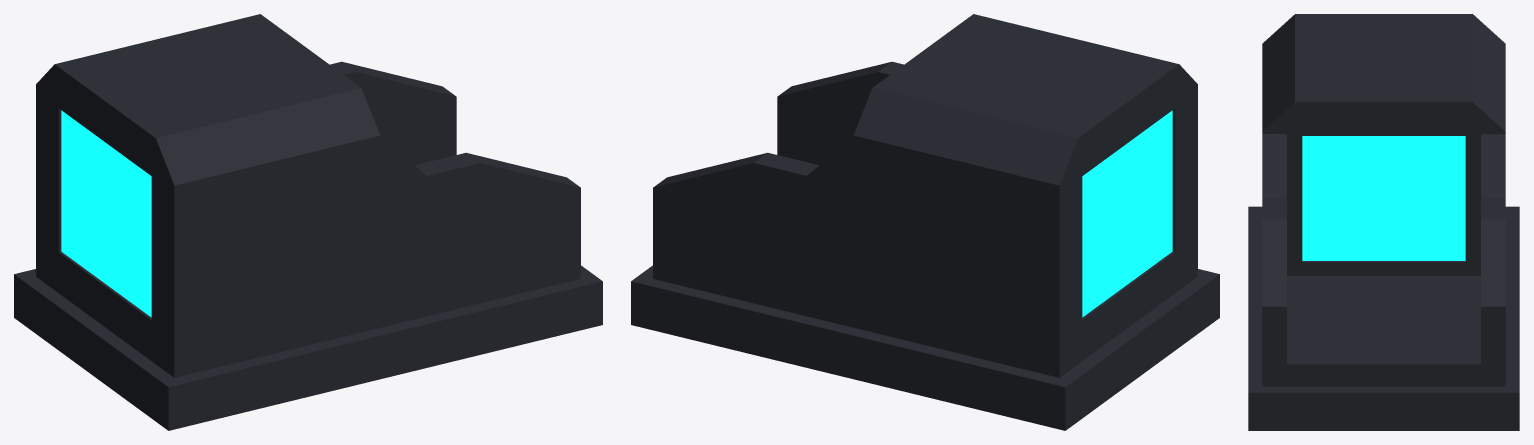
Rendered from SM_Holo_Sight.fbx.
3 views of the same model, side by side, from view 1: azimuth 30°, elevation 25°; view 2: azimuth 150°, elevation 25°; view 3: azimuth 270°, elevation 25° (orthographic). The views are drawn at different scales.
Parts seen in each view (by area): view 1: SM_Holo_Sight; view 2: SM_Holo_Sight; view 3: SM_Holo_Sight.
Boxes of the visible parts, x1,y1,x2,y2 form: SM_Holo_Sight: (14, 14, 602, 430); SM_Holo_Sight: (631, 14, 1219, 430); SM_Holo_Sight: (1248, 14, 1519, 430).
Size of the model in its own units: 6.15 by 3.65 by 3.79.
